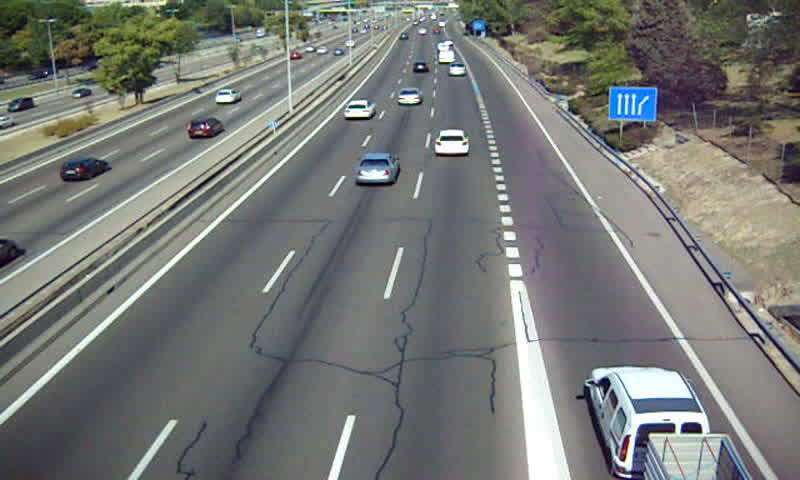car: (356, 153, 399, 184), (435, 129, 468, 156), (343, 100, 375, 122), (396, 88, 423, 107), (448, 63, 468, 77), (410, 62, 429, 76)
van: (589, 366, 709, 477)
